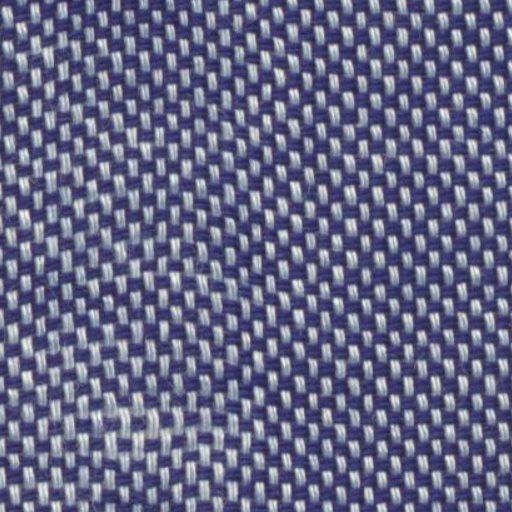TuoSha: (34, 34, 266, 498)
